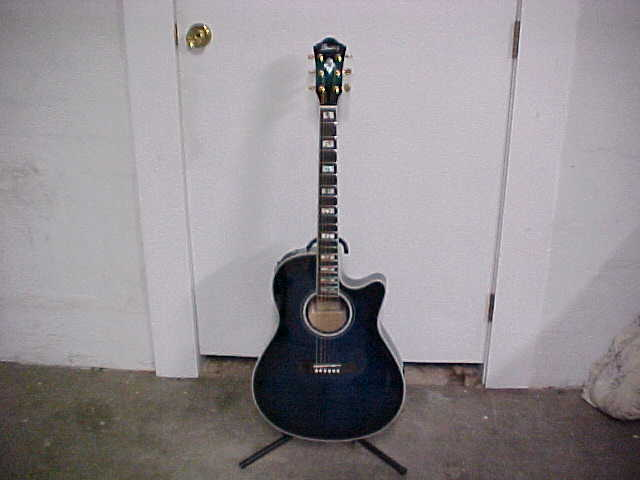guitar: (250, 52, 407, 444)
